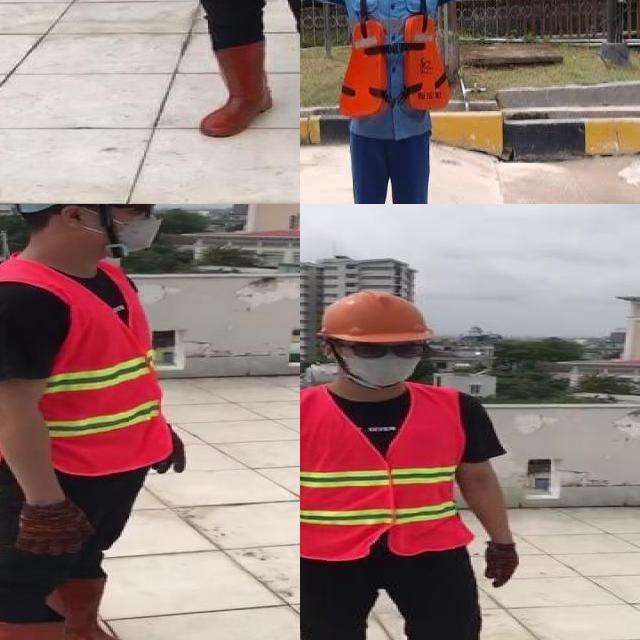No_Ear-Protection: (57, 204, 87, 233)
boots: (199, 43, 270, 138), (57, 574, 150, 640), (0, 613, 131, 640)
face_mask: (332, 339, 429, 389)
glasses: (345, 337, 430, 365)
hand_glove: (482, 541, 520, 588)
head_helmet: (311, 287, 443, 344)
person: (0, 204, 193, 640), (300, 281, 529, 640), (300, 0, 589, 204), (66, 0, 300, 181)
vest: (0, 264, 171, 472), (300, 386, 465, 555), (339, 14, 451, 116)
